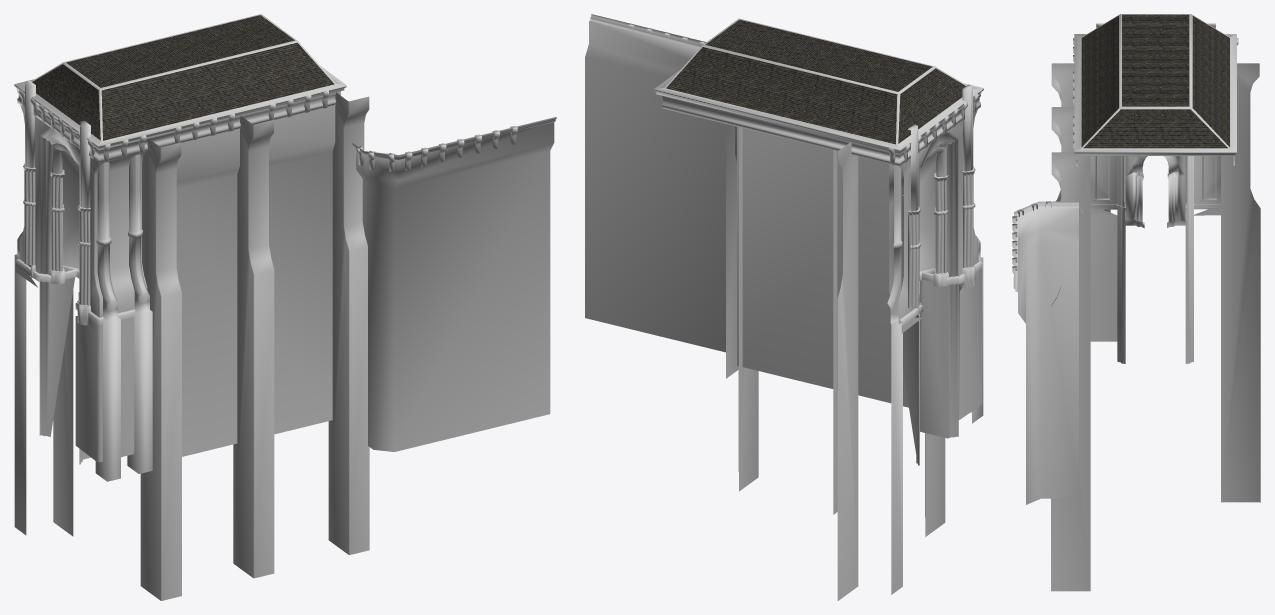
File: SM_ExtCastle_E.FBX
3 renders of one model, left to right at view 1: azimuth 30°, elevation 25°; view 2: azimuth 150°, elevation 25°; view 3: azimuth 270°, elevation 25°, orthographic. The views are drawn at different scales.
Parts seen in each view (by area): view 1: SM_ExtCastle_E; view 2: SM_ExtCastle_E; view 3: SM_ExtCastle_E.
Boxes of the visible parts, left/top/right/bottom form: SM_ExtCastle_E: left=14, top=14, right=556, bottom=600; SM_ExtCastle_E: left=585, top=14, right=983, bottom=600; SM_ExtCastle_E: left=1012, top=14, right=1260, bottom=591.
Size of what is drawn, in the model's own units: 6223 by 3203 by 6780.
